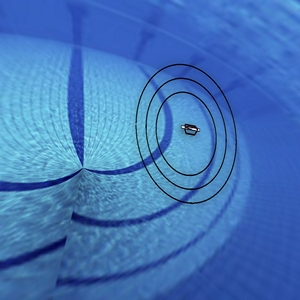circle: (123, 53, 244, 210)
submarine: (174, 115, 206, 151)
